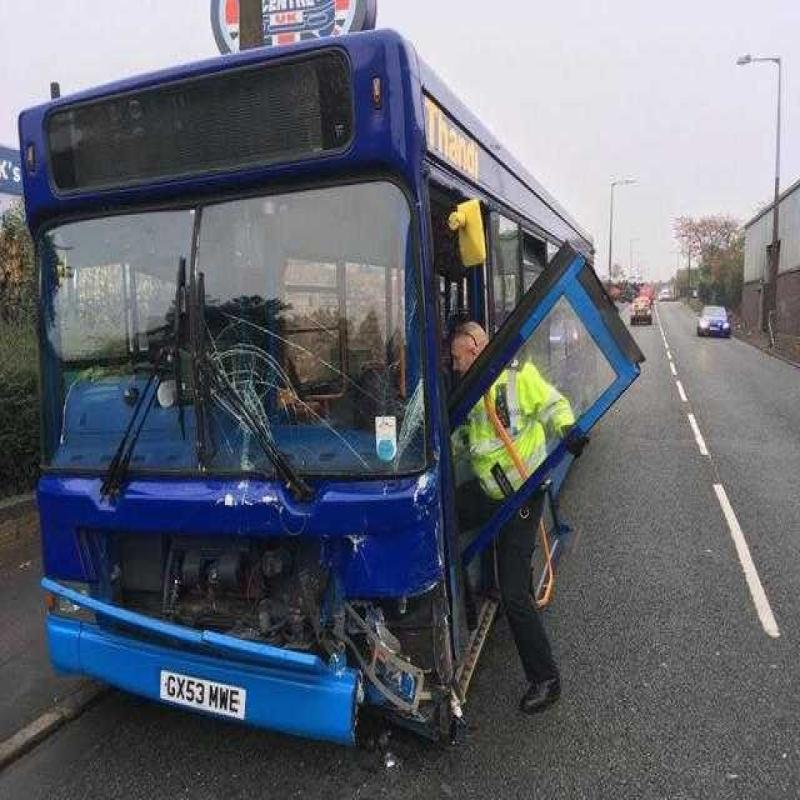bus: (29, 57, 575, 800)
